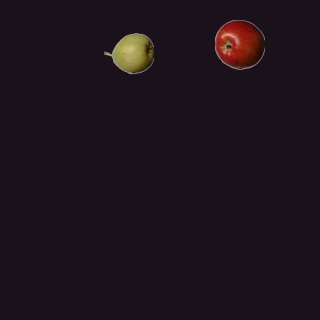Apple Braeburn: (214, 19, 264, 69)
Pear: (103, 28, 153, 78)
